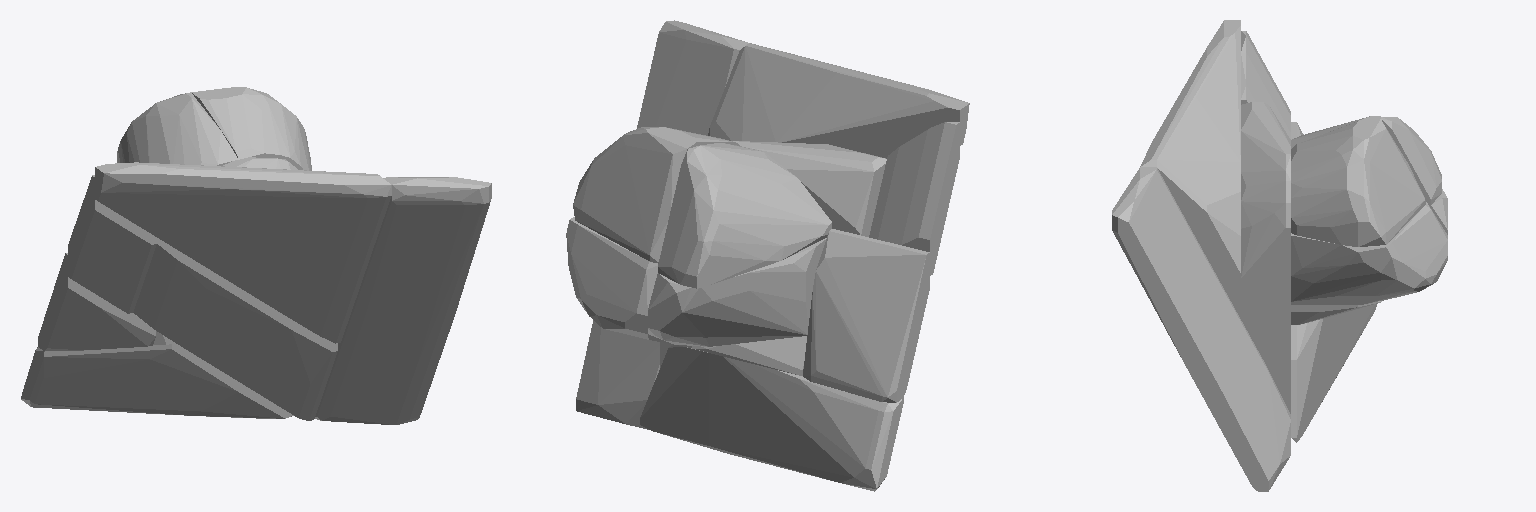
URDF robot description (root):
<robot name="root">
  <link name="link_thingiverse_packaged~part_3888003_packaged_convex_piece_0">
    <inertial>
      <origin rpy="0 0 0" xyz="0 0 0"/>
      <mass value="2.59E-02"/>
      <inertia ixx="4.92E-05" ixy="-2.80E-05" ixz="-1.34E-05" iyy="5.37E-05" iyz="4.12E-06" izz="6.11E-05"/>
    </inertial>
    <visual>
      <origin rpy="0 0 0" xyz="0 0 0"/>
      <geometry>
        <mesh filename="thingiverse_packaged~part_3888003_packaged_convex_piece_0.obj" scale="1.0000E+00 1.0000E+00 1.0000E+00"/>
      </geometry>
      <material name="">
        <color rgba="7.50E-01 7.50E-01 7.50E-01 1"/>
      </material>
    </visual>
    <collision>
      <origin rpy="0 0 0" xyz="0 0 0"/>
      <geometry>
        <mesh filename="thingiverse_packaged~part_3888003_packaged_convex_piece_0.obj" scale="1.0000E+00 1.0000E+00 1.0000E+00"/>
      </geometry>
    </collision>
  </link>
  <link name="link_thingiverse_packaged~part_3888003_packaged_convex_piece_1">
    <inertial>
      <origin rpy="0 0 0" xyz="0 0 0"/>
      <mass value="2.46E-02"/>
      <inertia ixx="3.52E-05" ixy="-3.77E-06" ixz="1.38E-05" iyy="4.91E-05" iyz="-3.41E-06" izz="1.64E-05"/>
    </inertial>
    <visual>
      <origin rpy="0 0 0" xyz="0 0 0"/>
      <geometry>
        <mesh filename="thingiverse_packaged~part_3888003_packaged_convex_piece_1.obj" scale="1.0000E+00 1.0000E+00 1.0000E+00"/>
      </geometry>
      <material name="">
        <color rgba="7.50E-01 7.50E-01 7.50E-01 1"/>
      </material>
    </visual>
    <collision>
      <origin rpy="0 0 0" xyz="0 0 0"/>
      <geometry>
        <mesh filename="thingiverse_packaged~part_3888003_packaged_convex_piece_1.obj" scale="1.0000E+00 1.0000E+00 1.0000E+00"/>
      </geometry>
    </collision>
  </link>
  <joint name="link_thingiverse_packaged~part_3888003_packaged_convex_piece_1_joint" type="fixed">
    <origin rpy="0 0 0" xyz="0 0 0"/>
    <parent link="link_thingiverse_packaged~part_3888003_packaged_convex_piece_0"/>
    <child link="link_thingiverse_packaged~part_3888003_packaged_convex_piece_1"/>
  </joint>
  <link name="link_thingiverse_packaged~part_3888003_packaged_convex_piece_2">
    <inertial>
      <origin rpy="0 0 0" xyz="0 0 0"/>
      <mass value="3.55E-02"/>
      <inertia ixx="4.57E-05" ixy="1.93E-06" ixz="-7.02E-06" iyy="2.71E-05" iyz="-1.71E-05" izz="4.21E-05"/>
    </inertial>
    <visual>
      <origin rpy="0 0 0" xyz="0 0 0"/>
      <geometry>
        <mesh filename="thingiverse_packaged~part_3888003_packaged_convex_piece_2.obj" scale="1.0000E+00 1.0000E+00 1.0000E+00"/>
      </geometry>
      <material name="">
        <color rgba="7.50E-01 7.50E-01 7.50E-01 1"/>
      </material>
    </visual>
    <collision>
      <origin rpy="0 0 0" xyz="0 0 0"/>
      <geometry>
        <mesh filename="thingiverse_packaged~part_3888003_packaged_convex_piece_2.obj" scale="1.0000E+00 1.0000E+00 1.0000E+00"/>
      </geometry>
    </collision>
  </link>
  <joint name="link_thingiverse_packaged~part_3888003_packaged_convex_piece_2_joint" type="fixed">
    <origin rpy="0 0 0" xyz="0 0 0"/>
    <parent link="link_thingiverse_packaged~part_3888003_packaged_convex_piece_1"/>
    <child link="link_thingiverse_packaged~part_3888003_packaged_convex_piece_2"/>
  </joint>
  <link name="link_thingiverse_packaged~part_3888003_packaged_convex_piece_3">
    <inertial>
      <origin rpy="0 0 0" xyz="0 0 0"/>
      <mass value="1.16E-02"/>
      <inertia ixx="2.33E-06" ixy="-3.84E-07" ixz="4.63E-06" iyy="2.00E-05" iyz="-3.47E-07" izz="1.81E-05"/>
    </inertial>
    <visual>
      <origin rpy="0 0 0" xyz="0 0 0"/>
      <geometry>
        <mesh filename="thingiverse_packaged~part_3888003_packaged_convex_piece_3.obj" scale="1.0000E+00 1.0000E+00 1.0000E+00"/>
      </geometry>
      <material name="">
        <color rgba="7.50E-01 7.50E-01 7.50E-01 1"/>
      </material>
    </visual>
    <collision>
      <origin rpy="0 0 0" xyz="0 0 0"/>
      <geometry>
        <mesh filename="thingiverse_packaged~part_3888003_packaged_convex_piece_3.obj" scale="1.0000E+00 1.0000E+00 1.0000E+00"/>
      </geometry>
    </collision>
  </link>
  <joint name="link_thingiverse_packaged~part_3888003_packaged_convex_piece_3_joint" type="fixed">
    <origin rpy="0 0 0" xyz="0 0 0"/>
    <parent link="link_thingiverse_packaged~part_3888003_packaged_convex_piece_2"/>
    <child link="link_thingiverse_packaged~part_3888003_packaged_convex_piece_3"/>
  </joint>
  <link name="link_thingiverse_packaged~part_3888003_packaged_convex_piece_4">
    <inertial>
      <origin rpy="0 0 0" xyz="0 0 0"/>
      <mass value="5.98E-03"/>
      <inertia ixx="2.81E-06" ixy="3.39E-06" ixz="-3.68E-06" iyy="1.32E-05" iyz="-1.25E-06" izz="1.26E-05"/>
    </inertial>
    <visual>
      <origin rpy="0 0 0" xyz="0 0 0"/>
      <geometry>
        <mesh filename="thingiverse_packaged~part_3888003_packaged_convex_piece_4.obj" scale="1.0000E+00 1.0000E+00 1.0000E+00"/>
      </geometry>
      <material name="">
        <color rgba="7.50E-01 7.50E-01 7.50E-01 1"/>
      </material>
    </visual>
    <collision>
      <origin rpy="0 0 0" xyz="0 0 0"/>
      <geometry>
        <mesh filename="thingiverse_packaged~part_3888003_packaged_convex_piece_4.obj" scale="1.0000E+00 1.0000E+00 1.0000E+00"/>
      </geometry>
    </collision>
  </link>
  <joint name="link_thingiverse_packaged~part_3888003_packaged_convex_piece_4_joint" type="fixed">
    <origin rpy="0 0 0" xyz="0 0 0"/>
    <parent link="link_thingiverse_packaged~part_3888003_packaged_convex_piece_3"/>
    <child link="link_thingiverse_packaged~part_3888003_packaged_convex_piece_4"/>
  </joint>
  <link name="link_thingiverse_packaged~part_3888003_packaged_convex_piece_5">
    <inertial>
      <origin rpy="0 0 0" xyz="0 0 0"/>
      <mass value="5.16E-02"/>
      <inertia ixx="2.44E-05" ixy="1.79E-06" ixz="-5.41E-06" iyy="2.80E-05" iyz="1.88E-06" izz="2.07E-05"/>
    </inertial>
    <visual>
      <origin rpy="0 0 0" xyz="0 0 0"/>
      <geometry>
        <mesh filename="thingiverse_packaged~part_3888003_packaged_convex_piece_5.obj" scale="1.0000E+00 1.0000E+00 1.0000E+00"/>
      </geometry>
      <material name="">
        <color rgba="7.50E-01 7.50E-01 7.50E-01 1"/>
      </material>
    </visual>
    <collision>
      <origin rpy="0 0 0" xyz="0 0 0"/>
      <geometry>
        <mesh filename="thingiverse_packaged~part_3888003_packaged_convex_piece_5.obj" scale="1.0000E+00 1.0000E+00 1.0000E+00"/>
      </geometry>
    </collision>
  </link>
  <joint name="link_thingiverse_packaged~part_3888003_packaged_convex_piece_5_joint" type="fixed">
    <origin rpy="0 0 0" xyz="0 0 0"/>
    <parent link="link_thingiverse_packaged~part_3888003_packaged_convex_piece_4"/>
    <child link="link_thingiverse_packaged~part_3888003_packaged_convex_piece_5"/>
  </joint>
  <link name="link_thingiverse_packaged~part_3888003_packaged_convex_piece_6">
    <inertial>
      <origin rpy="0 0 0" xyz="0 0 0"/>
      <mass value="1.12E-02"/>
      <inertia ixx="4.90E-06" ixy="-1.62E-07" ixz="1.11E-06" iyy="5.85E-06" iyz="-9.53E-07" izz="2.47E-06"/>
    </inertial>
    <visual>
      <origin rpy="0 0 0" xyz="0 0 0"/>
      <geometry>
        <mesh filename="thingiverse_packaged~part_3888003_packaged_convex_piece_6.obj" scale="1.0000E+00 1.0000E+00 1.0000E+00"/>
      </geometry>
      <material name="">
        <color rgba="7.50E-01 7.50E-01 7.50E-01 1"/>
      </material>
    </visual>
    <collision>
      <origin rpy="0 0 0" xyz="0 0 0"/>
      <geometry>
        <mesh filename="thingiverse_packaged~part_3888003_packaged_convex_piece_6.obj" scale="1.0000E+00 1.0000E+00 1.0000E+00"/>
      </geometry>
    </collision>
  </link>
  <joint name="link_thingiverse_packaged~part_3888003_packaged_convex_piece_6_joint" type="fixed">
    <origin rpy="0 0 0" xyz="0 0 0"/>
    <parent link="link_thingiverse_packaged~part_3888003_packaged_convex_piece_5"/>
    <child link="link_thingiverse_packaged~part_3888003_packaged_convex_piece_6"/>
  </joint>
  <link name="link_thingiverse_packaged~part_3888003_packaged_convex_piece_7">
    <inertial>
      <origin rpy="0 0 0" xyz="0 0 0"/>
      <mass value="2.00E-02"/>
      <inertia ixx="7.77E-06" ixy="-2.95E-06" ixz="7.57E-07" iyy="5.21E-06" iyz="-6.61E-07" izz="1.11E-05"/>
    </inertial>
    <visual>
      <origin rpy="0 0 0" xyz="0 0 0"/>
      <geometry>
        <mesh filename="thingiverse_packaged~part_3888003_packaged_convex_piece_7.obj" scale="1.0000E+00 1.0000E+00 1.0000E+00"/>
      </geometry>
      <material name="">
        <color rgba="7.50E-01 7.50E-01 7.50E-01 1"/>
      </material>
    </visual>
    <collision>
      <origin rpy="0 0 0" xyz="0 0 0"/>
      <geometry>
        <mesh filename="thingiverse_packaged~part_3888003_packaged_convex_piece_7.obj" scale="1.0000E+00 1.0000E+00 1.0000E+00"/>
      </geometry>
    </collision>
  </link>
  <joint name="link_thingiverse_packaged~part_3888003_packaged_convex_piece_7_joint" type="fixed">
    <origin rpy="0 0 0" xyz="0 0 0"/>
    <parent link="link_thingiverse_packaged~part_3888003_packaged_convex_piece_6"/>
    <child link="link_thingiverse_packaged~part_3888003_packaged_convex_piece_7"/>
  </joint>
  <link name="link_thingiverse_packaged~part_3888003_packaged_convex_piece_8">
    <inertial>
      <origin rpy="0 0 0" xyz="0 0 0"/>
      <mass value="1.93E-02"/>
      <inertia ixx="1.20E-05" ixy="-2.41E-06" ixz="-3.06E-06" iyy="8.92E-06" iyz="4.41E-06" izz="8.27E-06"/>
    </inertial>
    <visual>
      <origin rpy="0 0 0" xyz="0 0 0"/>
      <geometry>
        <mesh filename="thingiverse_packaged~part_3888003_packaged_convex_piece_8.obj" scale="1.0000E+00 1.0000E+00 1.0000E+00"/>
      </geometry>
      <material name="">
        <color rgba="7.50E-01 7.50E-01 7.50E-01 1"/>
      </material>
    </visual>
    <collision>
      <origin rpy="0 0 0" xyz="0 0 0"/>
      <geometry>
        <mesh filename="thingiverse_packaged~part_3888003_packaged_convex_piece_8.obj" scale="1.0000E+00 1.0000E+00 1.0000E+00"/>
      </geometry>
    </collision>
  </link>
  <joint name="link_thingiverse_packaged~part_3888003_packaged_convex_piece_8_joint" type="fixed">
    <origin rpy="0 0 0" xyz="0 0 0"/>
    <parent link="link_thingiverse_packaged~part_3888003_packaged_convex_piece_7"/>
    <child link="link_thingiverse_packaged~part_3888003_packaged_convex_piece_8"/>
  </joint>
  <link name="link_thingiverse_packaged~part_3888003_packaged_convex_piece_9">
    <inertial>
      <origin rpy="0 0 0" xyz="0 0 0"/>
      <mass value="2.94E-02"/>
      <inertia ixx="1.19E-05" ixy="5.49E-06" ixz="-6.76E-07" iyy="8.42E-06" iyz="-1.13E-06" izz="1.76E-05"/>
    </inertial>
    <visual>
      <origin rpy="0 0 0" xyz="0 0 0"/>
      <geometry>
        <mesh filename="thingiverse_packaged~part_3888003_packaged_convex_piece_9.obj" scale="1.0000E+00 1.0000E+00 1.0000E+00"/>
      </geometry>
      <material name="">
        <color rgba="7.50E-01 7.50E-01 7.50E-01 1"/>
      </material>
    </visual>
    <collision>
      <origin rpy="0 0 0" xyz="0 0 0"/>
      <geometry>
        <mesh filename="thingiverse_packaged~part_3888003_packaged_convex_piece_9.obj" scale="1.0000E+00 1.0000E+00 1.0000E+00"/>
      </geometry>
    </collision>
  </link>
  <joint name="link_thingiverse_packaged~part_3888003_packaged_convex_piece_9_joint" type="fixed">
    <origin rpy="0 0 0" xyz="0 0 0"/>
    <parent link="link_thingiverse_packaged~part_3888003_packaged_convex_piece_8"/>
    <child link="link_thingiverse_packaged~part_3888003_packaged_convex_piece_9"/>
  </joint>
  <link name="link_thingiverse_packaged~part_3888003_packaged_convex_piece_10">
    <inertial>
      <origin rpy="0 0 0" xyz="0 0 0"/>
      <mass value="2.26E-02"/>
      <inertia ixx="1.33E-05" ixy="2.79E-06" ixz="4.79E-06" iyy="1.36E-05" iyz="4.63E-06" izz="8.80E-06"/>
    </inertial>
    <visual>
      <origin rpy="0 0 0" xyz="0 0 0"/>
      <geometry>
        <mesh filename="thingiverse_packaged~part_3888003_packaged_convex_piece_10.obj" scale="1.0000E+00 1.0000E+00 1.0000E+00"/>
      </geometry>
      <material name="">
        <color rgba="7.50E-01 7.50E-01 7.50E-01 1"/>
      </material>
    </visual>
    <collision>
      <origin rpy="0 0 0" xyz="0 0 0"/>
      <geometry>
        <mesh filename="thingiverse_packaged~part_3888003_packaged_convex_piece_10.obj" scale="1.0000E+00 1.0000E+00 1.0000E+00"/>
      </geometry>
    </collision>
  </link>
  <joint name="link_thingiverse_packaged~part_3888003_packaged_convex_piece_10_joint" type="fixed">
    <origin rpy="0 0 0" xyz="0 0 0"/>
    <parent link="link_thingiverse_packaged~part_3888003_packaged_convex_piece_9"/>
    <child link="link_thingiverse_packaged~part_3888003_packaged_convex_piece_10"/>
  </joint>
</robot>

--- What the picture shows (computed from the rendered views, not written in the file) ---
3 views of the same robot in one strip: view 1: azimuth 30°, elevation 25°; view 2: azimuth 150°, elevation 25°; view 3: azimuth 270°, elevation 25° (orthographic).
Robot: root — 11 links, 10 joints (10 fixed); root link link_thingiverse_packaged~part_3888003_packaged_convex_piece_0; default pose: every joint at zero.
Visible links, largest first — view 1: link_thingiverse_packaged~part_3888003_packaged_convex_piece_2, link_thingiverse_packaged~part_3888003_packaged_convex_piece_0, link_thingiverse_packaged~part_3888003_packaged_convex_piece_5, link_thingiverse_packaged~part_3888003_packaged_convex_piece_1, link_thingiverse_packaged~part_3888003_packaged_convex_piece_4, link_thingiverse_packaged~part_3888003_packaged_convex_piece_8, link_thingiverse_packaged~part_3888003_packaged_convex_piece_10, link_thingiverse_packaged~part_3888003_packaged_convex_piece_3; view 2: link_thingiverse_packaged~part_3888003_packaged_convex_piece_1, link_thingiverse_packaged~part_3888003_packaged_convex_piece_2, link_thingiverse_packaged~part_3888003_packaged_convex_piece_8, link_thingiverse_packaged~part_3888003_packaged_convex_piece_3, link_thingiverse_packaged~part_3888003_packaged_convex_piece_0, link_thingiverse_packaged~part_3888003_packaged_convex_piece_7, link_thingiverse_packaged~part_3888003_packaged_convex_piece_10, link_thingiverse_packaged~part_3888003_packaged_convex_piece_4, link_thingiverse_packaged~part_3888003_packaged_convex_piece_9, link_thingiverse_packaged~part_3888003_packaged_convex_piece_5, link_thingiverse_packaged~part_3888003_packaged_convex_piece_6; view 3: link_thingiverse_packaged~part_3888003_packaged_convex_piece_0, link_thingiverse_packaged~part_3888003_packaged_convex_piece_2, link_thingiverse_packaged~part_3888003_packaged_convex_piece_10, link_thingiverse_packaged~part_3888003_packaged_convex_piece_5, link_thingiverse_packaged~part_3888003_packaged_convex_piece_9, link_thingiverse_packaged~part_3888003_packaged_convex_piece_1, link_thingiverse_packaged~part_3888003_packaged_convex_piece_8, link_thingiverse_packaged~part_3888003_packaged_convex_piece_4, link_thingiverse_packaged~part_3888003_packaged_convex_piece_6.
Link boxes in pixels (x1,y1,x2,y2): link_thingiverse_packaged~part_3888003_packaged_convex_piece_2: (95,162,391,343); link_thingiverse_packaged~part_3888003_packaged_convex_piece_0: (315,177,491,424); link_thingiverse_packaged~part_3888003_packaged_convex_piece_5: (133,157,337,420); link_thingiverse_packaged~part_3888003_packaged_convex_piece_1: (21,343,293,418); link_thingiverse_packaged~part_3888003_packaged_convex_piece_4: (68,175,156,313); link_thingiverse_packaged~part_3888003_packaged_convex_piece_8: (117,92,238,165); link_thingiverse_packaged~part_3888003_packaged_convex_piece_10: (191,87,311,170); link_thingiverse_packaged~part_3888003_packaged_convex_piece_3: (38,253,155,351); link_thingiverse_packaged~part_3888003_packaged_convex_piece_1: (640,344,903,491); link_thingiverse_packaged~part_3888003_packaged_convex_piece_2: (708,43,969,158); link_thingiverse_packaged~part_3888003_packaged_convex_piece_8: (658,143,831,288); link_thingiverse_packaged~part_3888003_packaged_convex_piece_3: (803,229,929,402); link_thingiverse_packaged~part_3888003_packaged_convex_piece_0: (576,20,748,429); link_thingiverse_packaged~part_3888003_packaged_convex_piece_7: (648,238,826,346); link_thingiverse_packaged~part_3888003_packaged_convex_piece_10: (573,127,739,263); link_thingiverse_packaged~part_3888003_packaged_convex_piece_4: (869,122,959,275); link_thingiverse_packaged~part_3888003_packaged_convex_piece_9: (566,217,673,344); link_thingiverse_packaged~part_3888003_packaged_convex_piece_5: (660,141,886,367); link_thingiverse_packaged~part_3888003_packaged_convex_piece_6: (679,336,806,375); link_thingiverse_packaged~part_3888003_packaged_convex_piece_0: (1112,167,1290,491); link_thingiverse_packaged~part_3888003_packaged_convex_piece_2: (1140,20,1240,318); link_thingiverse_packaged~part_3888003_packaged_convex_piece_10: (1291,119,1425,246); link_thingiverse_packaged~part_3888003_packaged_convex_piece_5: (1241,102,1290,413); link_thingiverse_packaged~part_3888003_packaged_convex_piece_9: (1291,202,1447,304); link_thingiverse_packaged~part_3888003_packaged_convex_piece_1: (1291,303,1377,442); link_thingiverse_packaged~part_3888003_packaged_convex_piece_8: (1291,116,1441,204); link_thingiverse_packaged~part_3888003_packaged_convex_piece_4: (1241,31,1290,138); link_thingiverse_packaged~part_3888003_packaged_convex_piece_6: (1291,300,1383,324).
Size in the robot's own frame: 0.1016 by 0.0952 by 0.1 metres.
Meshes: 11 distinct files referenced, 11 mesh visuals loaded (11 OBJ).
